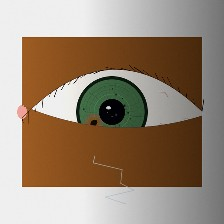foreign_body_visible: (75, 108, 113, 138)
